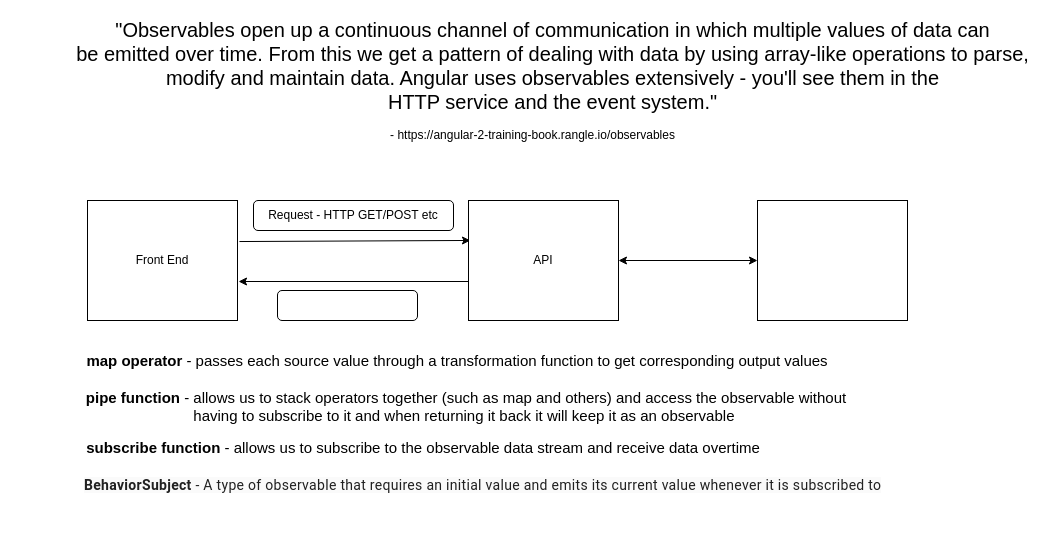
The diagram is 1054 pixels wide and 537 high, and some of its shapes have lost their labels. The centre of each missing label's shape, as x and y in pixels:
Back End: (x=832, y=260)
Response - Observable: (x=347, y=305)
